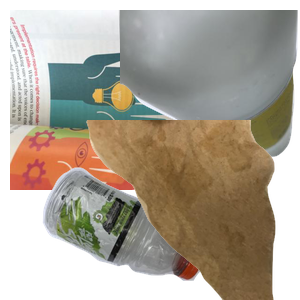glass: (120, 10, 300, 160)
paper: (10, 10, 250, 190)
plastic: (40, 165, 235, 300)
trash: (84, 120, 300, 300)
